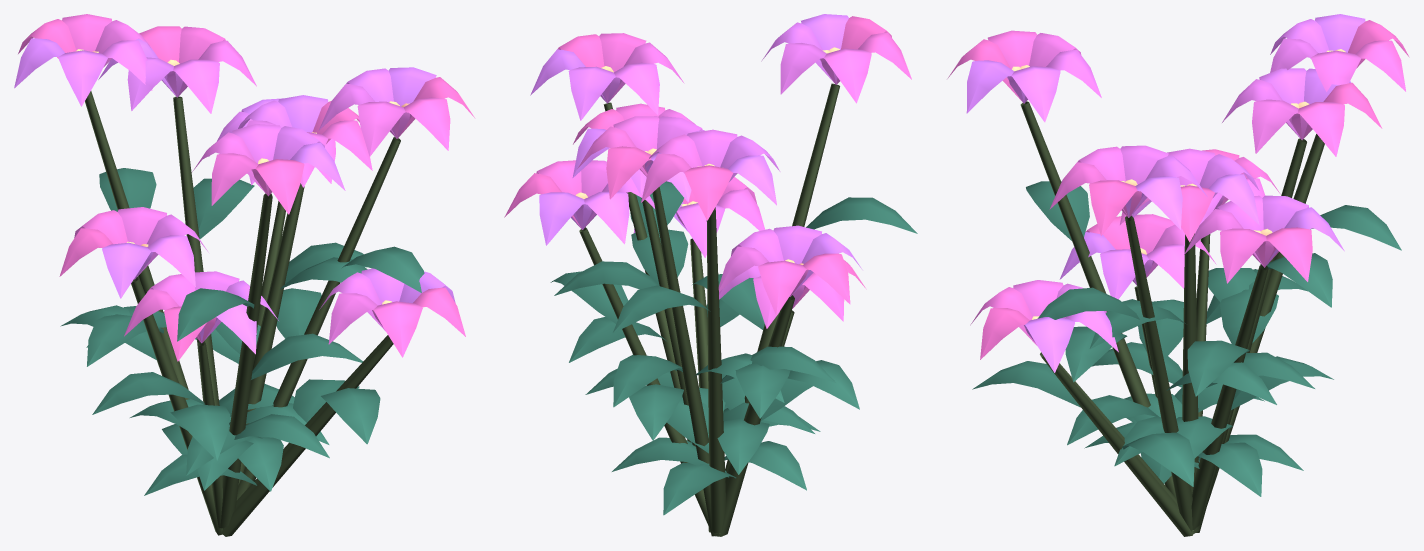
File: Lantern Orchid.glb
3 renders of one model, left to right at view 1: azimuth 30°, elevation 25°; view 2: azimuth 150°, elevation 25°; view 3: azimuth 270°, elevation 25°, orthographic. The views are drawn at different scales.
Parts seen in each view (by area): view 1: Lantern Orchid; view 2: Lantern Orchid; view 3: Lantern Orchid.
Part boxes in pixels (left/top/right/bottom): Lantern Orchid: left=14, top=14, right=475, bottom=536; Lantern Orchid: left=504, top=14, right=917, bottom=536; Lantern Orchid: left=947, top=14, right=1409, bottom=536.
Size of the model in its own units: 1.23 by 1.52 by 1.36.
